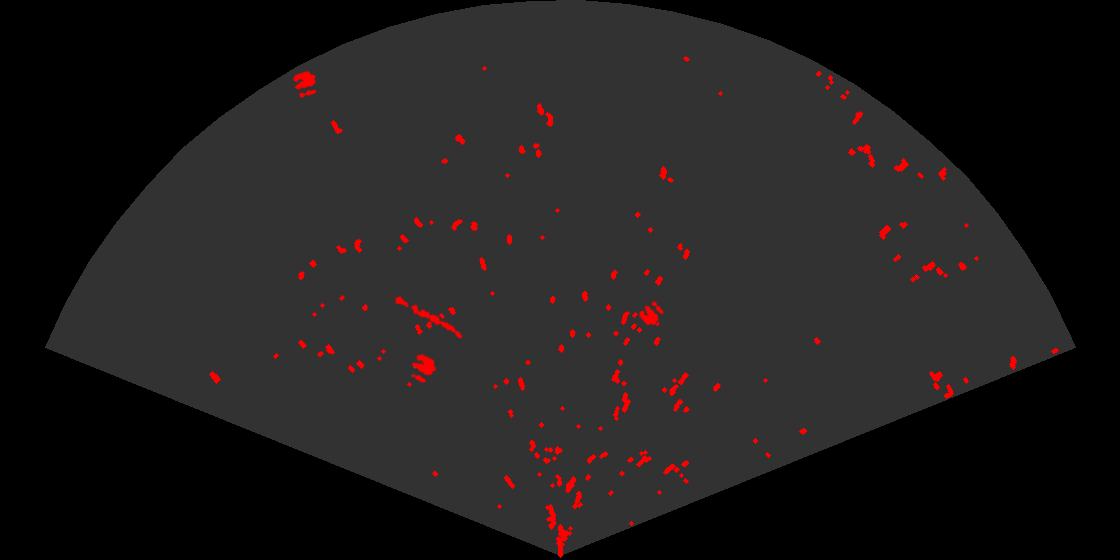ball: (410, 352, 438, 385), (637, 299, 666, 327), (291, 69, 318, 99)
chain: (390, 293, 464, 340)
